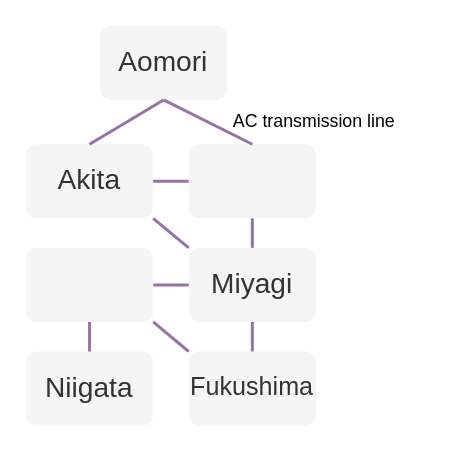
Some shapes in this 450 by 450 pixel diagram are drawn without their labels. Here are the shapes that lost their labels. From the top down, the box of each, then its label:
(188, 144, 315, 218): Iwate
(25, 247, 152, 321): Yamagata
